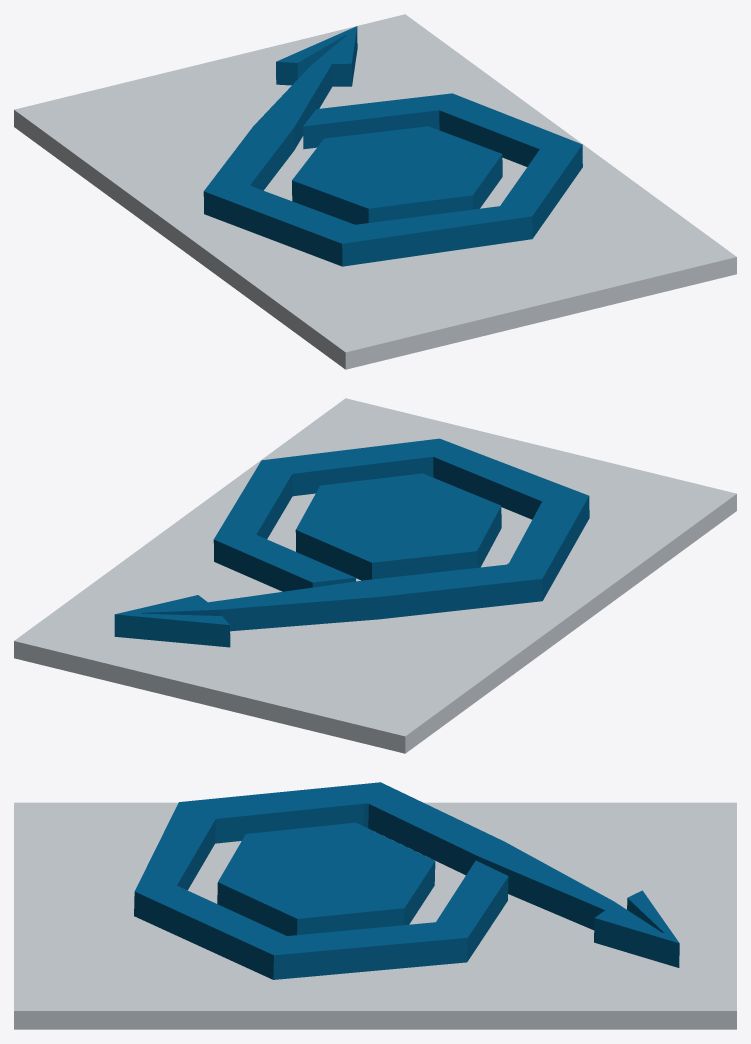
Rendered from Vslet3.gltf.
3 renders of one model, top to bottom at view 1: azimuth 30°, elevation 25°; view 2: azimuth 150°, elevation 25°; view 3: azimuth 270°, elevation 25°, orthographic. The views are drawn at different scales.
Parts seen in each view (by area): view 1: root; view 2: root; view 3: root.
Part boxes in pixels (box(x1,y1,x2,y2)): root: box(14, 14, 736, 369); root: box(14, 398, 736, 753); root: box(14, 782, 736, 1029).
Bounding box in the file's own units: 0.478 × 0.0629 × 0.7017.
